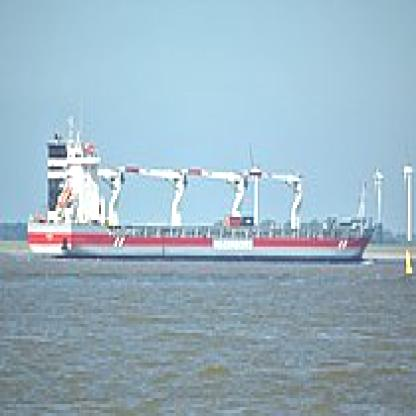Tanker: (35, 125, 368, 267)
